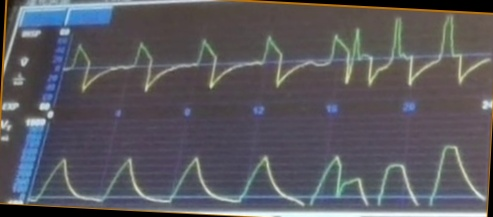Double_Triggering Flow: (153, 13, 492, 96)
Double_Triggering Volume: (129, 132, 485, 209)
